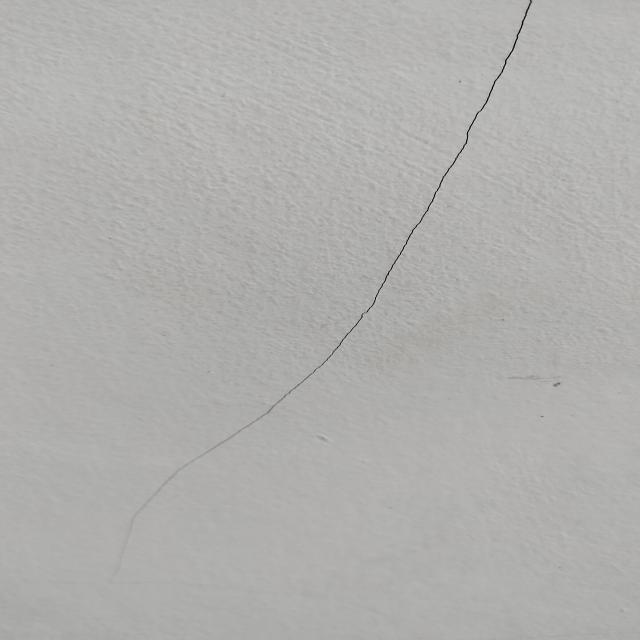Crack: (114, 0, 540, 584)
